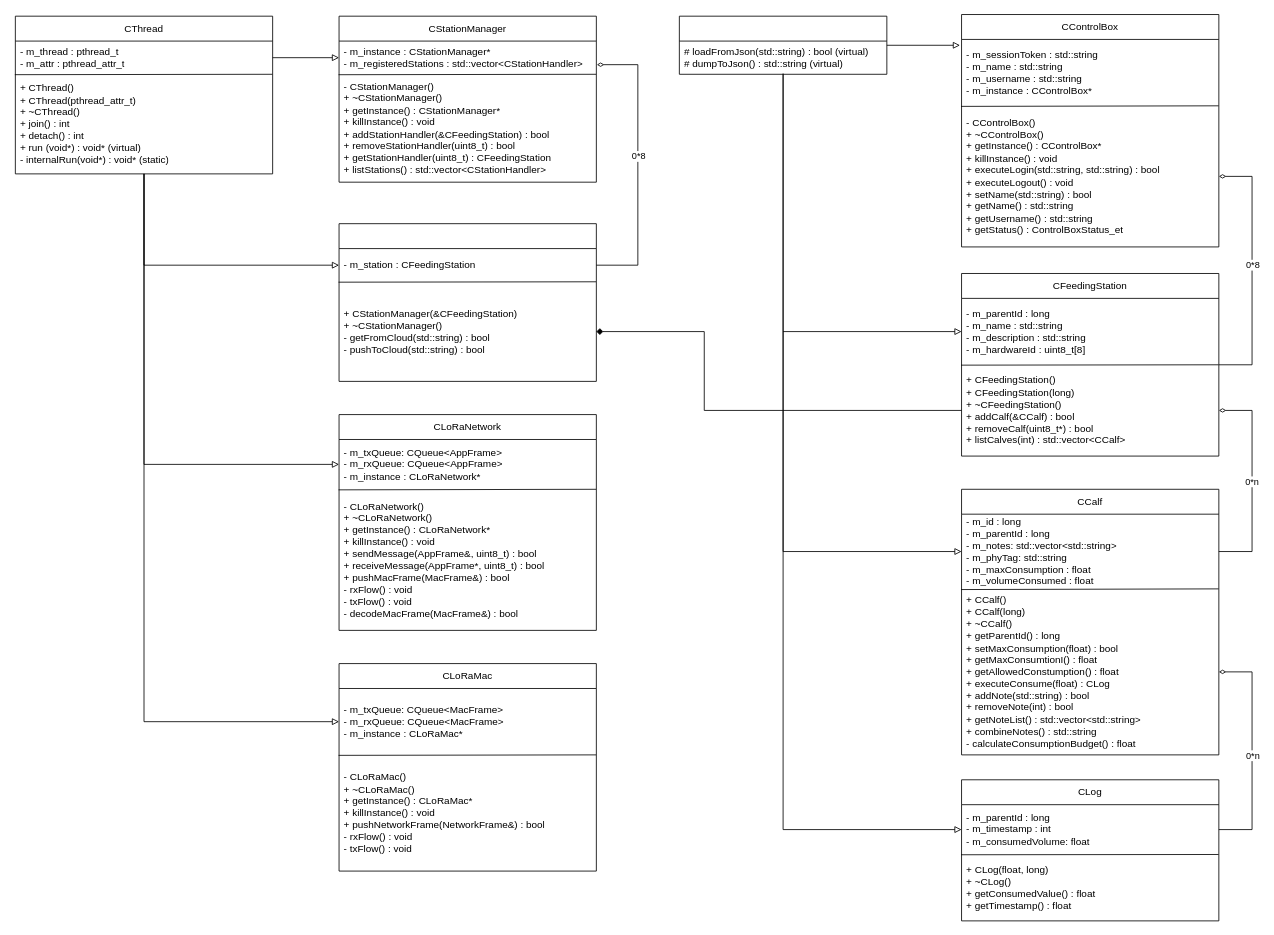
Some shapes in this 1274 by 935 pixel diagram are drawn without their labels. Each missing label, with the box of its shape:
CSerializableObject: (679, 15, 887, 74)
CStationHandler: (338, 223, 596, 381)
